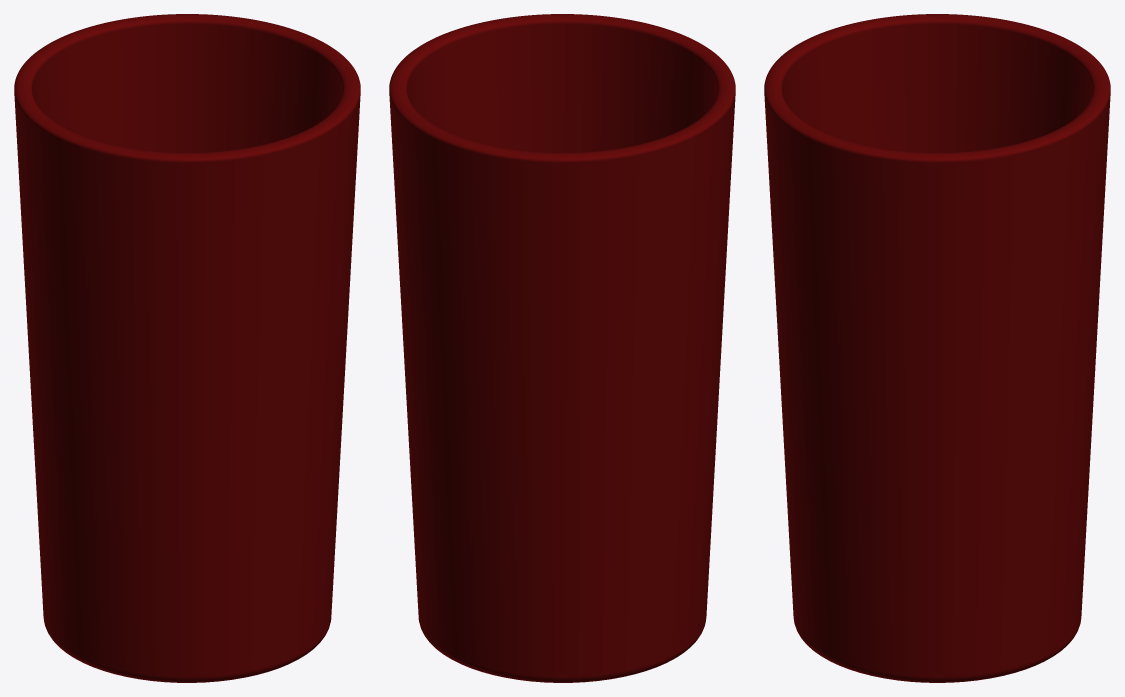
3 renders of one model, left to right at view 1: azimuth 30°, elevation 25°; view 2: azimuth 150°, elevation 25°; view 3: azimuth 270°, elevation 25°, orthographic.
Bounding box in the file's own units: 0.058 × 0.0999 × 0.058.
